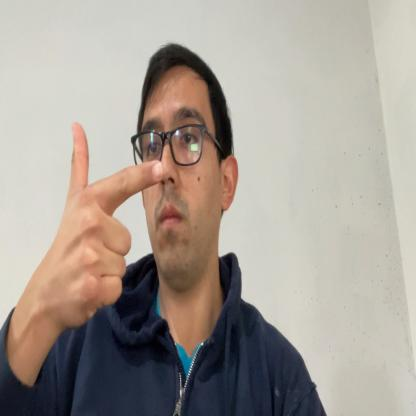G: (56, 120, 164, 326)
